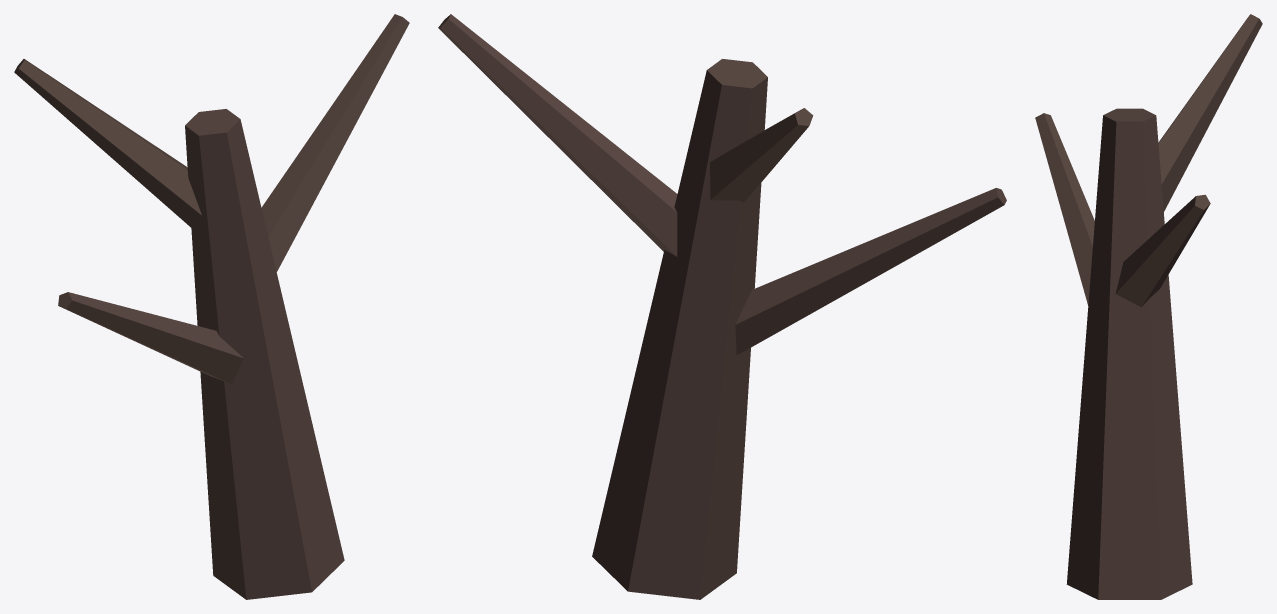
The model's file is EXTG_MainEastThorn_00.glb.
The picture shows the model from 3 angles, left to right: view 1: azimuth 30°, elevation 25°; view 2: azimuth 150°, elevation 25°; view 3: azimuth 270°, elevation 25°; orthographic projection. The views are drawn at different scales.
Visible parts, largest first — view 1: EXTG_MainEastThorn_00; view 2: EXTG_MainEastThorn_00; view 3: EXTG_MainEastThorn_00.
Boxes of the visible parts, x1,y1,x2,y2 form: EXTG_MainEastThorn_00: (14, 14, 409, 599); EXTG_MainEastThorn_00: (438, 14, 1006, 599); EXTG_MainEastThorn_00: (1035, 14, 1262, 599).
Bounding box in the file's own units: 0.9764 × 1.12 × 0.4705.
